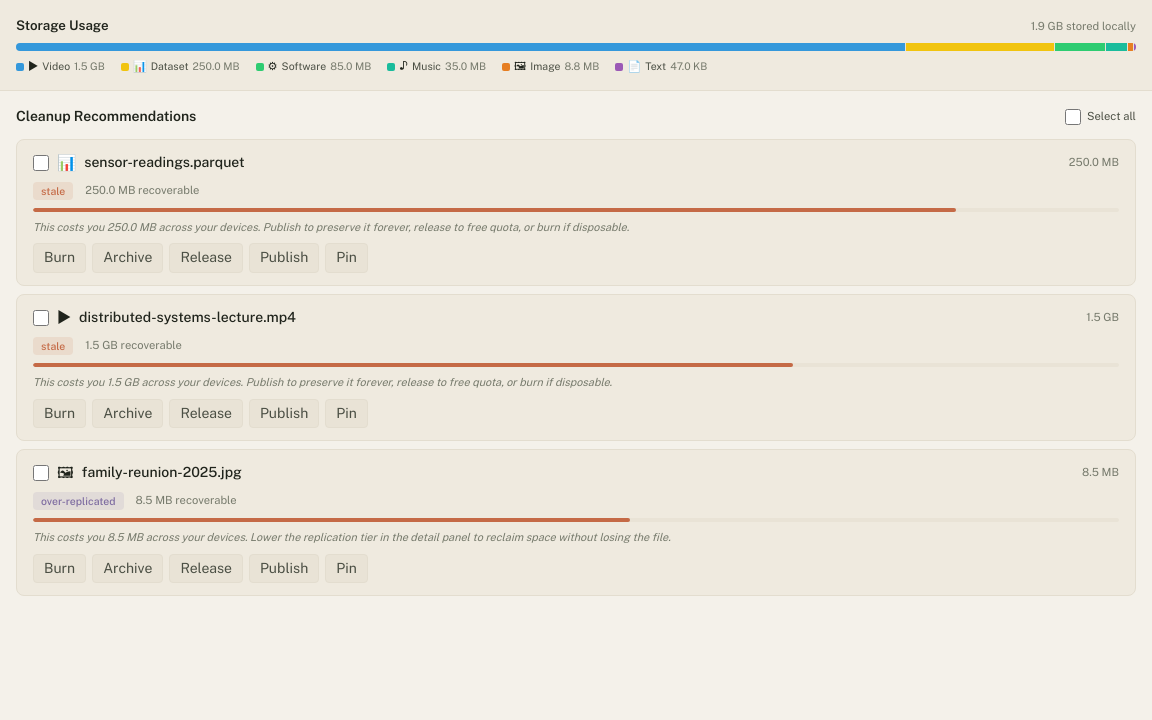
CleanupView › selects all items when select-all is clicked
The width and height of the screenshot is (1152, 720).
Click the checkbox labelled "Select all".
click(1073, 117)  # box [1065,109,1081,125]
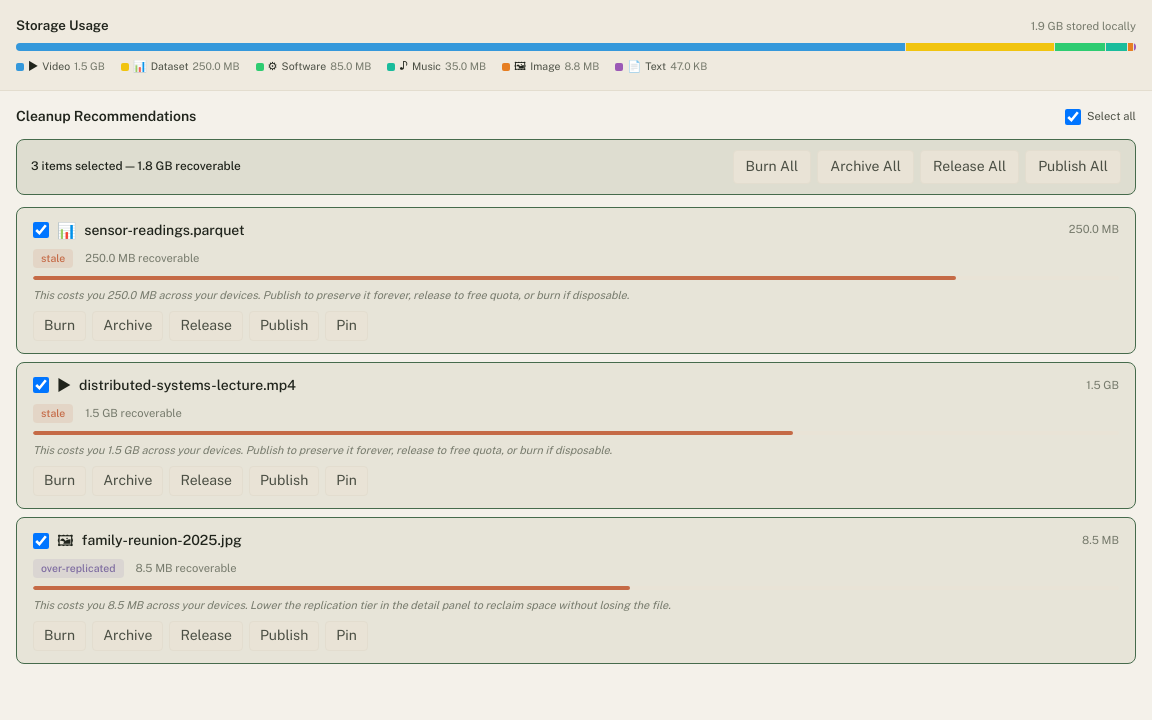
expect the checkbox labelled "Select all" is checked: met, box [1065,109,1081,125]
expect the checkbox named "Select sensor-readings.parquet" is checked: met, box [33,222,49,238]
expect the checkbox named "Select distributed-systems-lecture.mp4" is checked: met, box [33,377,49,393]
